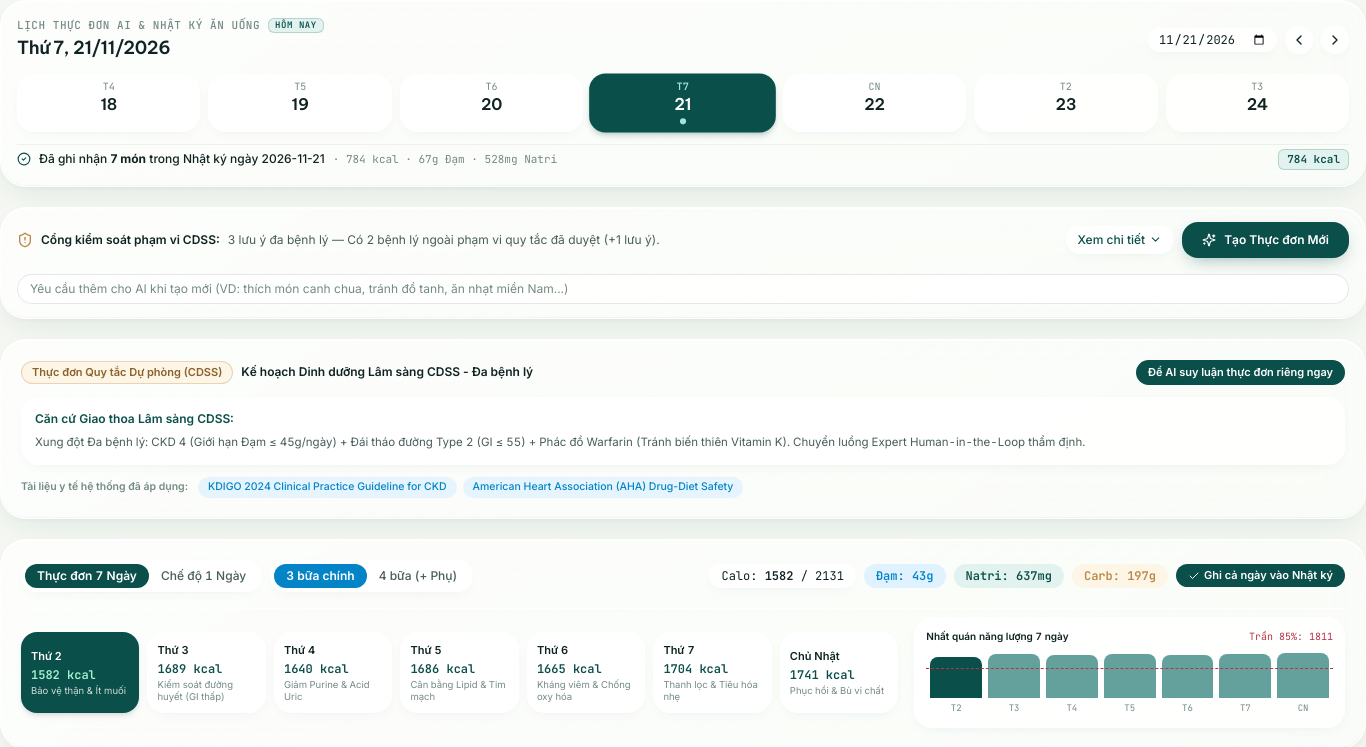
it: UI › collapses CDSS scope control banner by default on Planner and toggles details on click
Expected: the text "Cổng kiểm soát phạm vi CDSS:" is shown, x1=41 y1=232 x2=220 y2=248
Expected: the text "Nhiều bệnh lý cùng lúc" is not shown
Click the button "Xem chi tiết" at (1120,240), box x1=1066 y1=226 x2=1174 y2=254
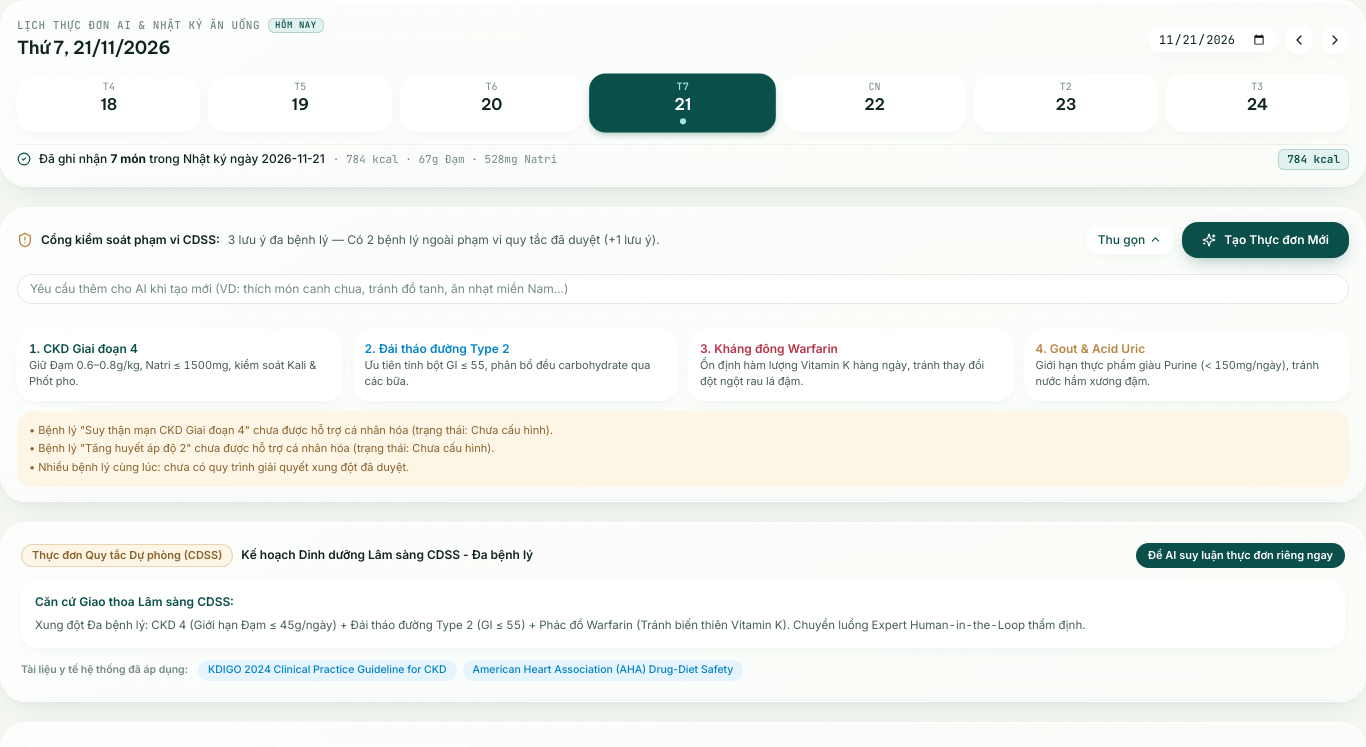
Result: the button "Thu gọn" is expanded at x1=1086 y1=226 x2=1174 y2=254
Result: the text "Nhiều bệnh lý cùng lúc" is shown at x1=38 y1=460 x2=409 y2=474
